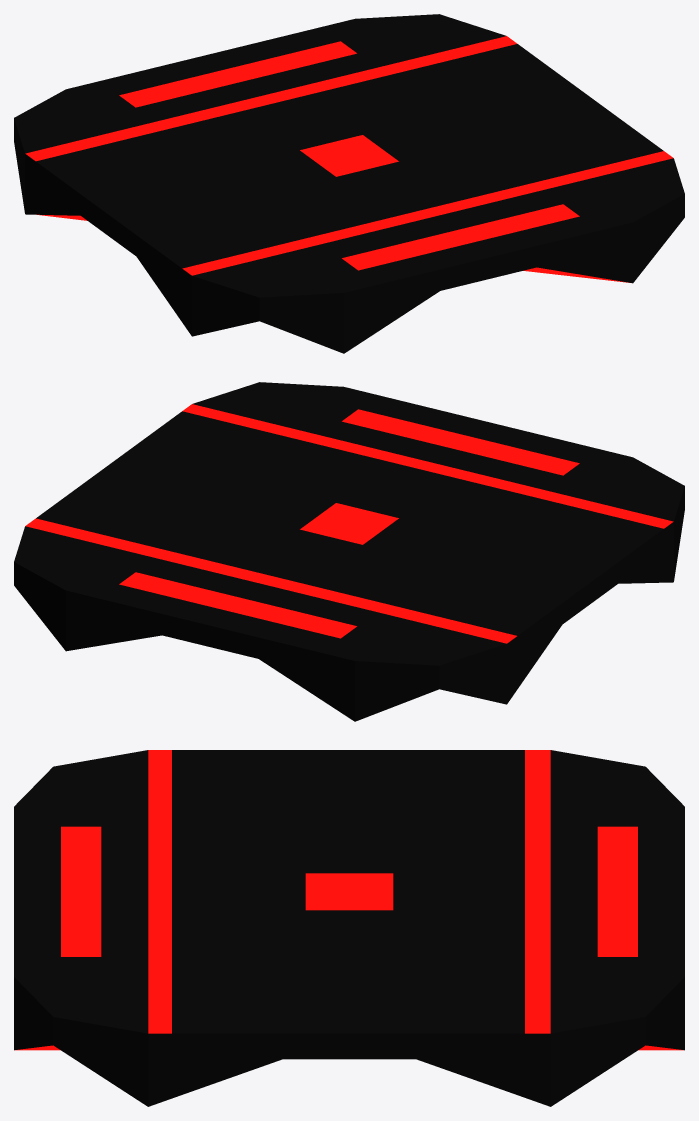
The model's file is plat_style_2_fefe.glb.
3 views of the same model, one above another, from view 1: azimuth 30°, elevation 25°; view 2: azimuth 150°, elevation 25°; view 3: azimuth 270°, elevation 25° (orthographic). The views are drawn at different scales.
Visible parts, largest first — view 1: Cube; view 2: Cube; view 3: Cube.
Part boxes in pixels (x1,y1,x2,y2): Cube: (14, 14, 684, 353); Cube: (14, 382, 684, 721); Cube: (14, 750, 684, 1106).
Bounding box in the file's own units: 5.1 × 0.6159 × 5.1.
